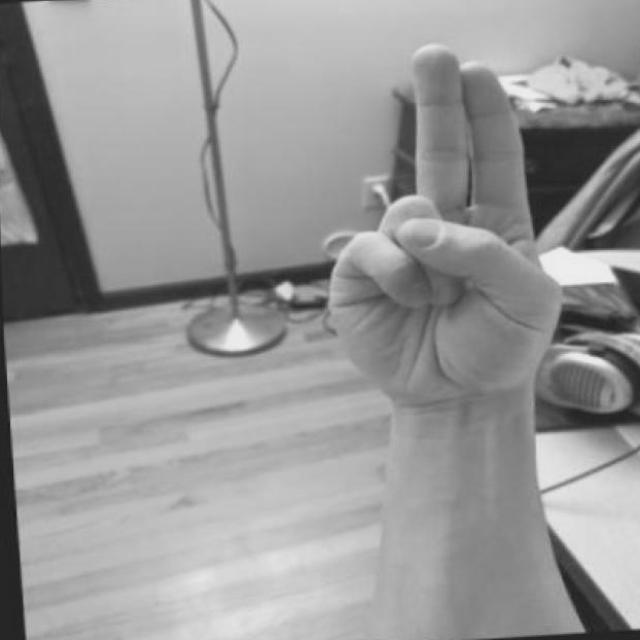U: (314, 34, 640, 471)
